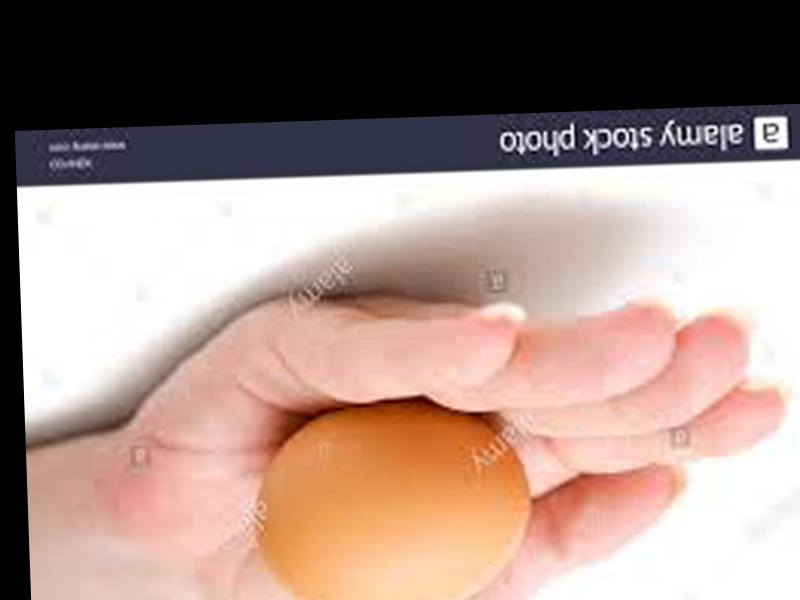Eggs: (250, 400, 532, 600)
